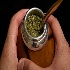guampa: (16, 8, 57, 61)
